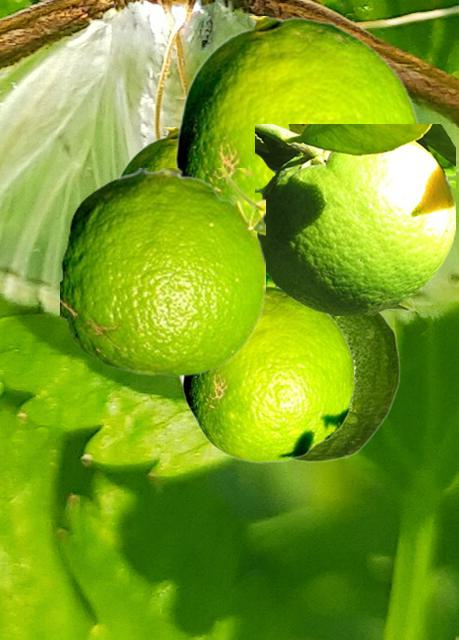dalandan: (175, 16, 420, 217), (60, 168, 264, 375), (255, 124, 454, 314), (182, 285, 354, 462), (116, 127, 272, 284), (290, 297, 414, 461)
